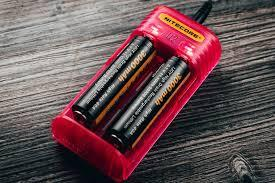battery: (102, 48, 201, 157), (65, 28, 166, 134)
